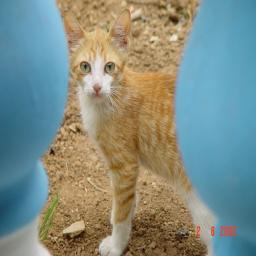catnose: (88, 80, 104, 96)
